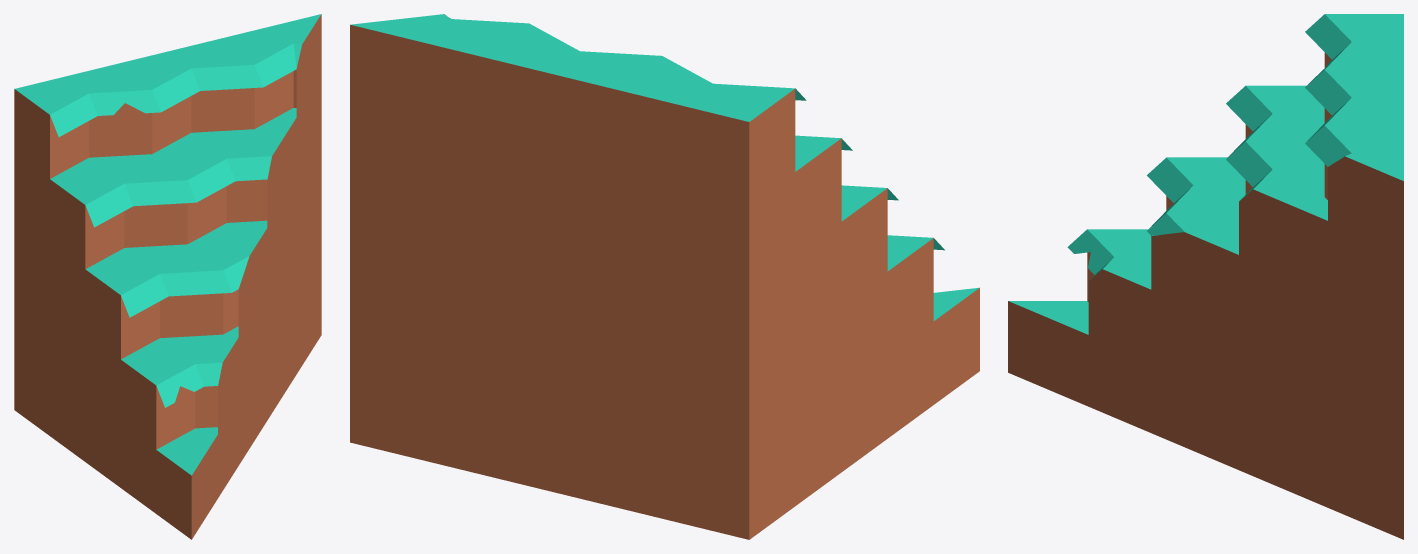
Rendered from cliff_stepsCornerInner_rock_halfSE.fbx.
The picture shows the model from 3 angles, left to right: view 1: azimuth 30°, elevation 25°; view 2: azimuth 150°, elevation 25°; view 3: azimuth 270°, elevation 25°; orthographic projection. The views are drawn at different scales.
Visible parts, largest first — view 1: cliff_stepsCornerInner_rock; view 2: cliff_stepsCornerInner_rock; view 3: cliff_stepsCornerInner_rock.
Part boxes in pixels (box(x1,y1,x2,y2)): cliff_stepsCornerInner_rock: box(14, 14, 321, 539); cliff_stepsCornerInner_rock: box(350, 14, 979, 539); cliff_stepsCornerInner_rock: box(1008, 14, 1403, 539).
Bounding box in the file's own units: 10 × 10 × 10.
